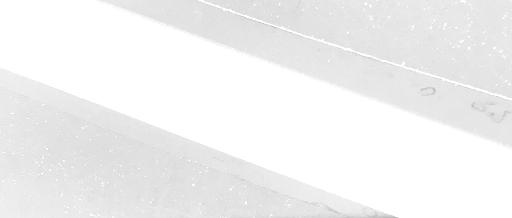letter: (56, 19, 92, 54), (277, 104, 309, 136), (306, 114, 334, 148), (198, 75, 226, 107), (226, 84, 254, 116), (146, 56, 174, 87), (26, 9, 52, 42), (418, 155, 446, 184), (446, 165, 474, 194), (116, 46, 142, 77), (253, 95, 279, 125), (173, 67, 197, 98), (365, 134, 389, 165), (337, 126, 361, 156), (479, 174, 503, 204), (92, 36, 116, 65), (395, 145, 415, 174)
